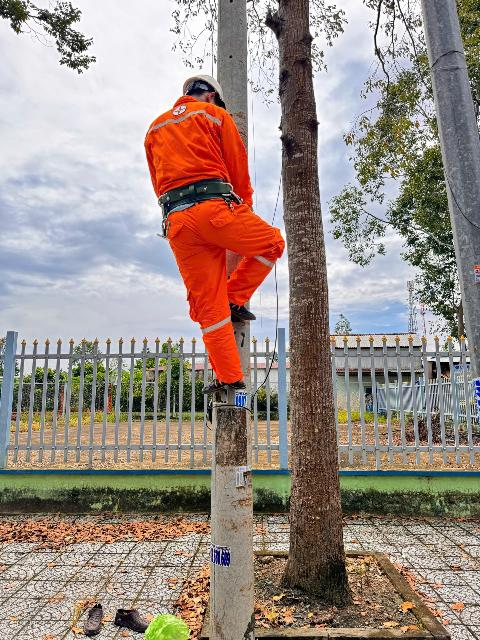harness: (158, 177, 243, 213)
helmet: (176, 63, 232, 117)
shoes: (220, 291, 260, 325), (193, 376, 256, 395)
